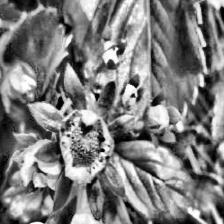Blossom Blight: (58, 110, 114, 182)
